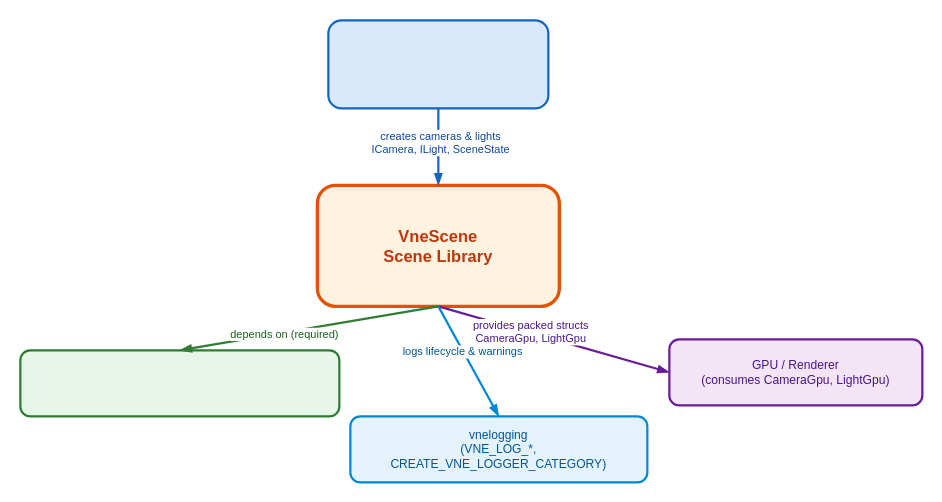
The diagram is 942 pixels wide and 502 high, and some of its shapes have lost their labels. Here are the shapes that lost their labels. From the top down, the centre of each, then its label:
At (438,64): "C++ Application (Developer / User Code)".
At (179,383): "vnemath (Mat4f, Vec3f, Quatf, Ray, GraphicsApi)".
